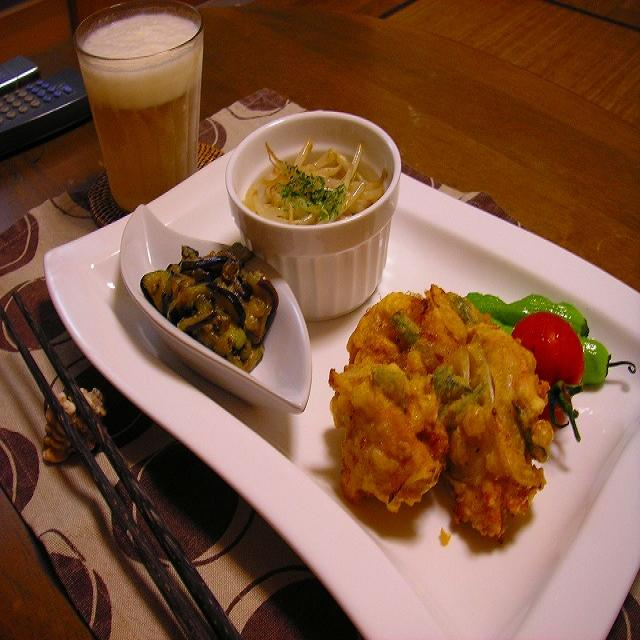鸡蛋料理: (109, 216, 308, 400)
